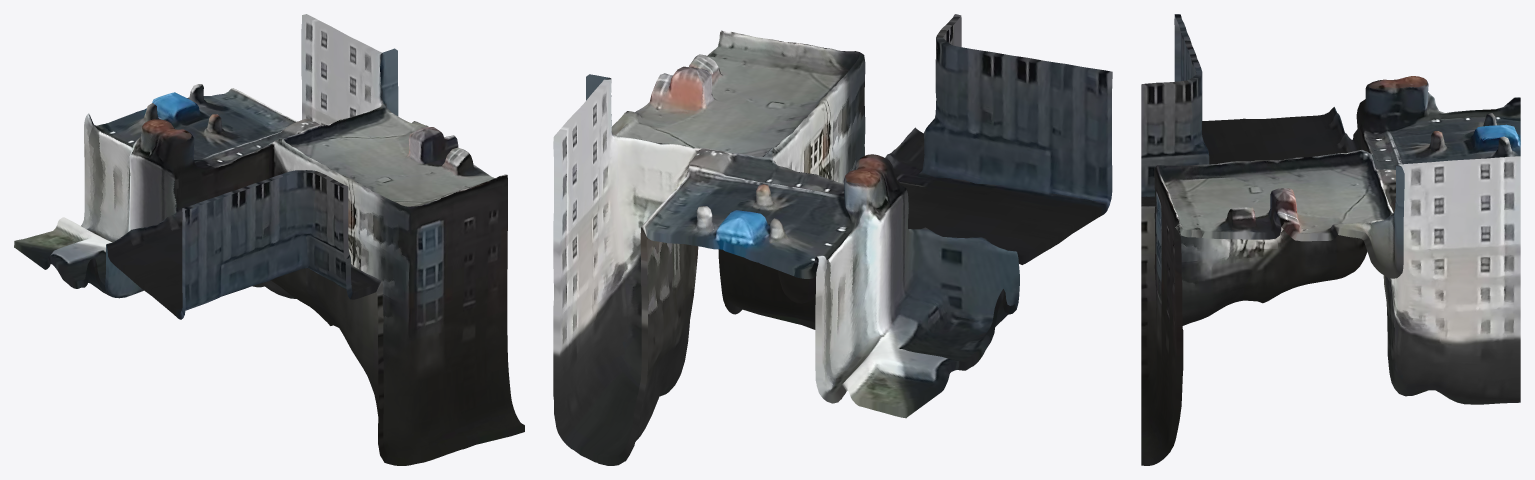
File: z20-167748-405241-h0-yup-uvflip-v3-world.glb
3 views of the same model, side by side, from view 1: azimuth 30°, elevation 25°; view 2: azimuth 150°, elevation 25°; view 3: azimuth 270°, elevation 25° (orthographic). The views are drawn at different scales.
Bounding box in the file's own units: 30.2 × 26.24 × 30.32.
Materials: 1 (1 with a texture image).
